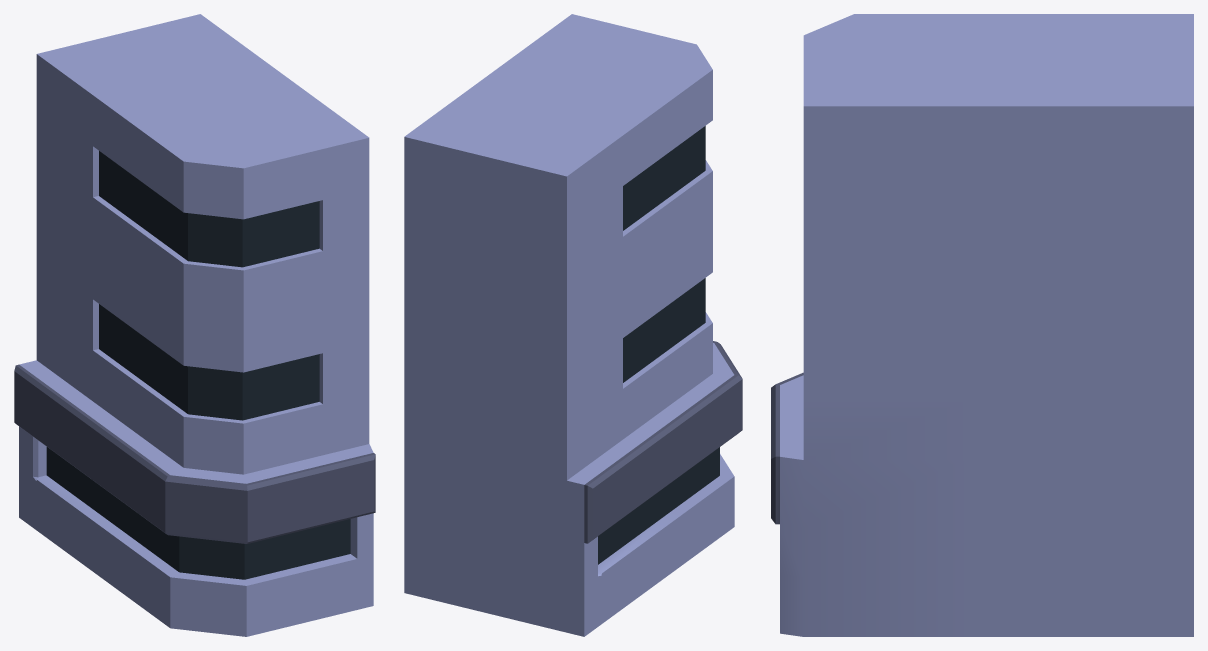
3 renders of one model, left to right at view 1: azimuth 30°, elevation 25°; view 2: azimuth 150°, elevation 25°; view 3: azimuth 270°, elevation 25°, orthographic. The views are drawn at different scales.
Visible parts, largest first — view 1: 楼1; view 2: 楼1; view 3: 楼1.
Part boxes in pixels (bbox=[...]): 楼1: bbox=[14, 14, 375, 636]; 楼1: bbox=[404, 14, 742, 636]; 楼1: bbox=[771, 14, 1193, 636].
Bounding box in the file's own units: 253 × 591 × 426.
